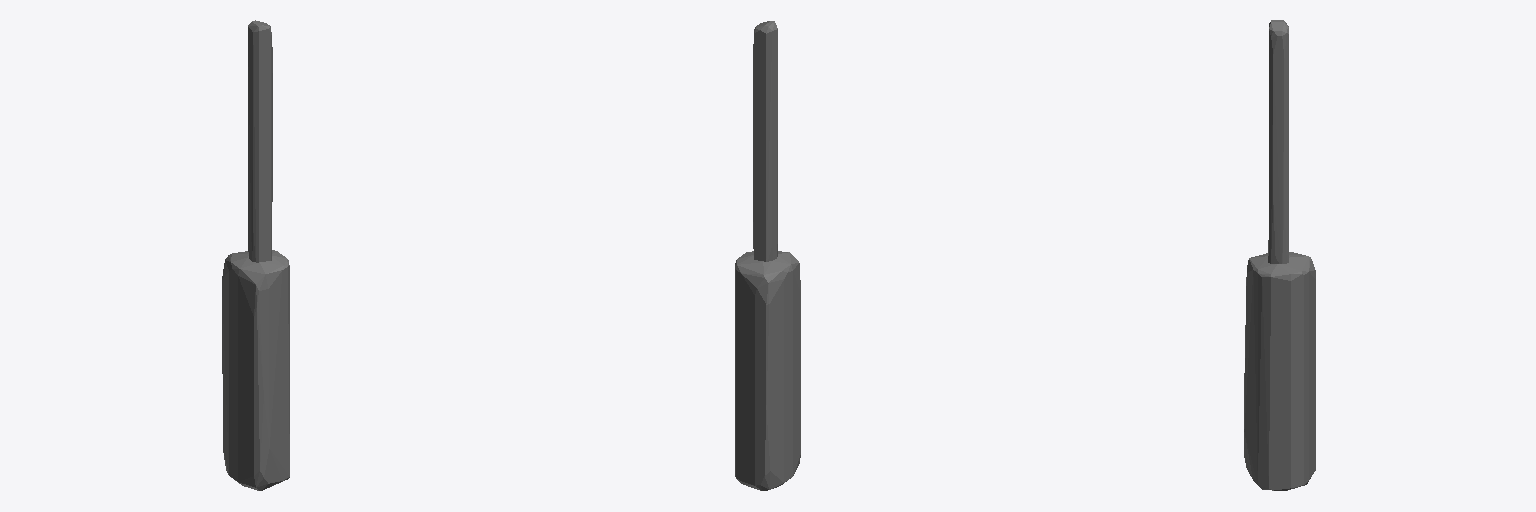
URDF robot description (screwdriver_020):
<?xml version="1.0" ?>
<robot name="screwdriver_020">
  <material name="color">
    <color rgba=".5 .5 .5 1"/>
  </material>

  <link name="base_link">
    <contact>
      <lateral_friction value="1.0"/>
      <rolling_friction value="0.001"/>
      <spinning_friction value="0.001"/>
      <inertia_scaling value="1.0"/>
    </contact>
    <inertial>
      <origin rpy="0 0 0" xyz="-0.000605047 -0.000147618 -0.0214006"/>
       <mass value="0.1"/>
       <inertia ixx="1" ixy="0" ixz="0" iyy="1" iyz="0" izz="1"/>
    </inertial>

    <visual>
      <origin rpy="0 0 0" xyz="0 0 0"/>
      <geometry>
        <mesh filename="screwdriver_020_vhacd_0_of_2.obj" scale="1 1 1"/>
      </geometry>
      <material name="color"/>
    </visual>
    <visual>
      <origin rpy="0 0 0" xyz="0 0 0"/>
      <geometry>
        <mesh filename="screwdriver_020_vhacd_1_of_2.obj" scale="1 1 1"/>
      </geometry>
      <material name="color"/>
    </visual>

    <collision>
      <origin rpy="0 0 0" xyz="0 0 0"/>
      <geometry>
        <mesh filename="screwdriver_020_vhacd_0_of_2.obj" scale="1 1 1"/>
      </geometry>
    </collision>
    <collision>
      <origin rpy="0 0 0" xyz="0 0 0"/>
      <geometry>
        <mesh filename="screwdriver_020_vhacd_1_of_2.obj" scale="1 1 1"/>
      </geometry>
    </collision>

  </link>
</robot>

--- What the picture shows (computed from the rendered views, not written in the file) ---
Views: 3 orthographic renders of the robot side by side, from view 1: azimuth 30°, elevation 25°; view 2: azimuth 150°, elevation 25°; view 3: azimuth 270°, elevation 25°.
Model screwdriver_020 with 1 links and 0 joints (none), rooted at base_link, posed all joints at 0.
Visible links, largest first — view 1: base_link; view 2: base_link; view 3: base_link.
Boxes of the visible links, left/top/right/bottom form: base_link: left=222, top=20, right=289, bottom=490; base_link: left=735, top=21, right=800, bottom=490; base_link: left=1244, top=20, right=1315, bottom=490.
Size in the robot's own frame: 0.0159 by 0.0196 by 0.1391 metres.
2 mesh visuals loaded from 2 distinct referenced files (2 OBJ).